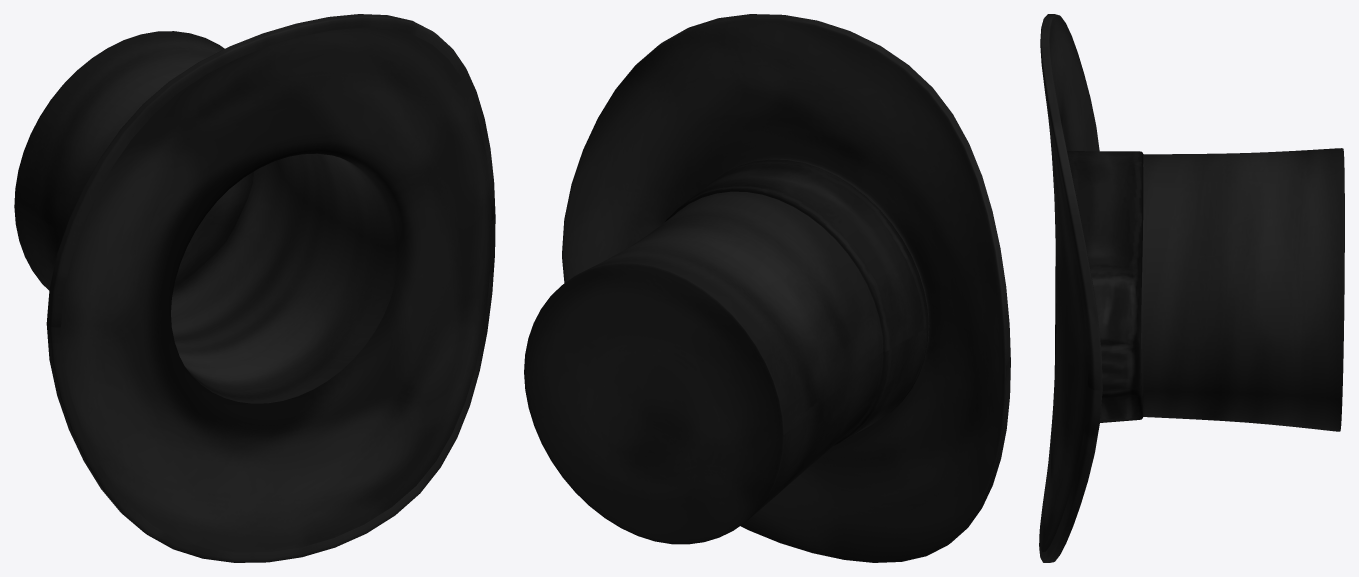
File: tophat.fbx
3 renders of one model, left to right at view 1: azimuth 30°, elevation 25°; view 2: azimuth 150°, elevation 25°; view 3: azimuth 270°, elevation 25°, orthographic. The views are drawn at different scales.
Visible parts, largest first — view 1: Top Hat; view 2: Top Hat; view 3: Top Hat.
Boxes of the visible parts, box(x1,y1,x2,y2) form: Top Hat: box(14, 14, 495, 562); Top Hat: box(524, 14, 1010, 562); Top Hat: box(1039, 14, 1344, 562).
Bounding box in the file's own units: 192 × 218 × 122.
